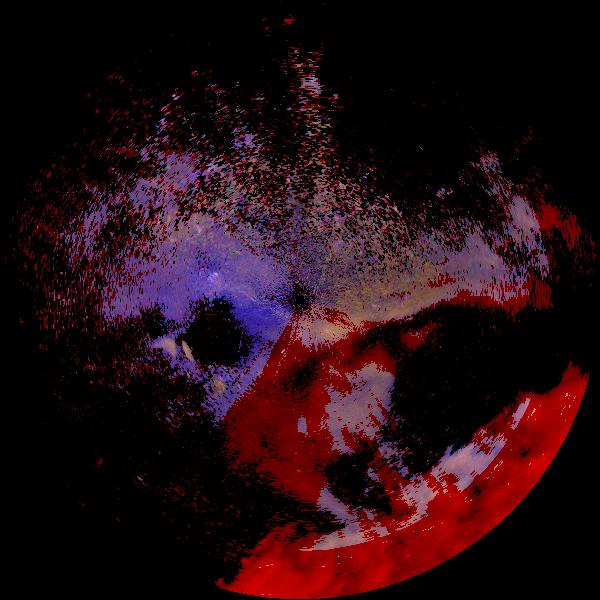roost: (148, 345, 235, 432), (130, 329, 205, 404)
